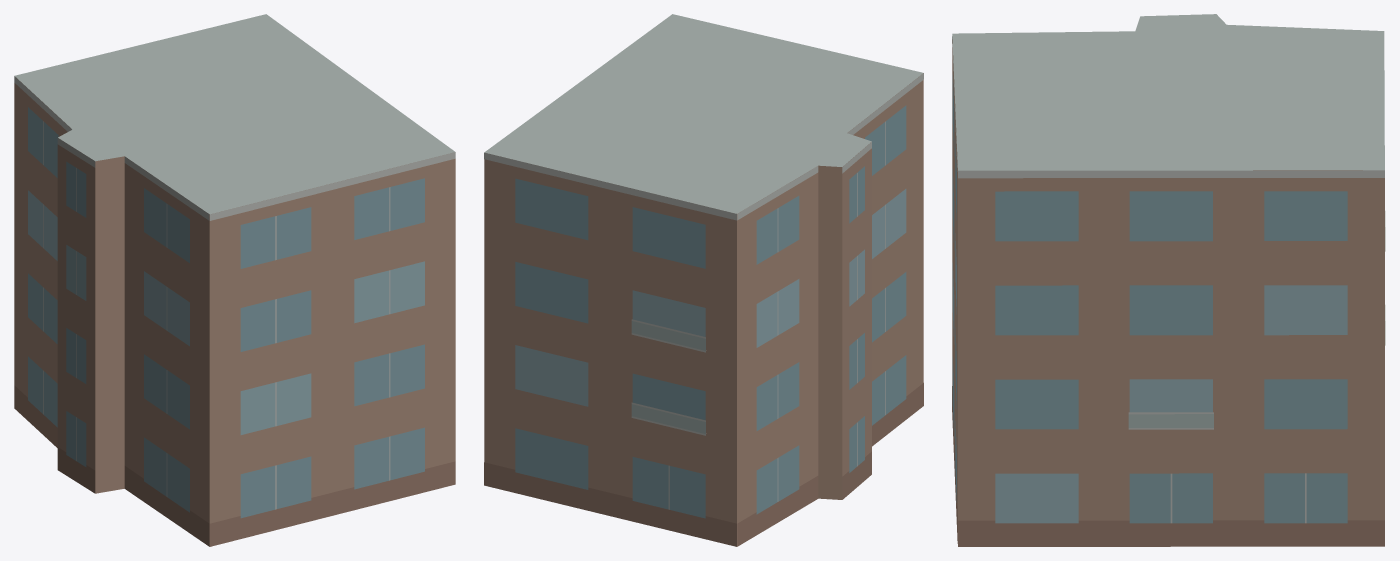
File: survey-upis-32706664.glb
3 views of the same model, side by side, from view 1: azimuth 30°, elevation 25°; view 2: azimuth 150°, elevation 25°; view 3: azimuth 270°, elevation 25° (orthographic). The views are drawn at different scales.
Visible parts, largest first — view 1: survey-upis-32706664.tmp; view 2: survey-upis-32706664.tmp; view 3: survey-upis-32706664.tmp.
Part boxes in pixels (left/top/right/bottom): survey-upis-32706664.tmp: left=14, top=14, right=455, bottom=546; survey-upis-32706664.tmp: left=484, top=14, right=923, bottom=546; survey-upis-32706664.tmp: left=952, top=14, right=1385, bottom=546.
Bounding box in the file's own units: 10.93 × 12.2 × 12.75.
